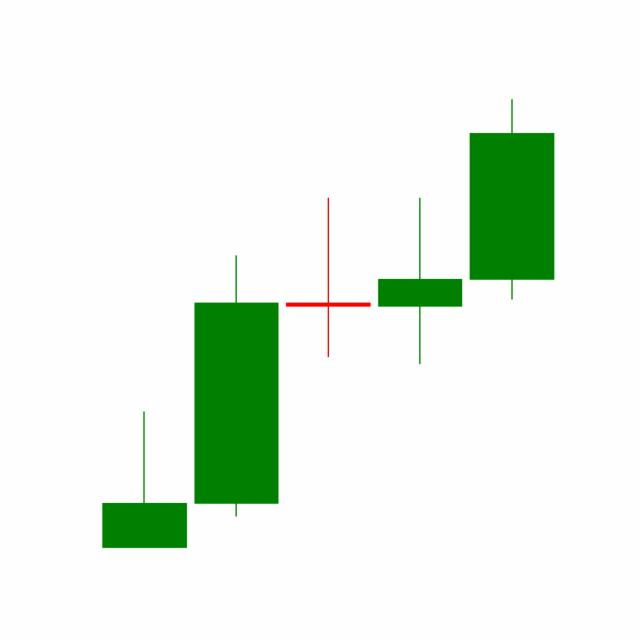Marubozu: (464, 96, 558, 301)
